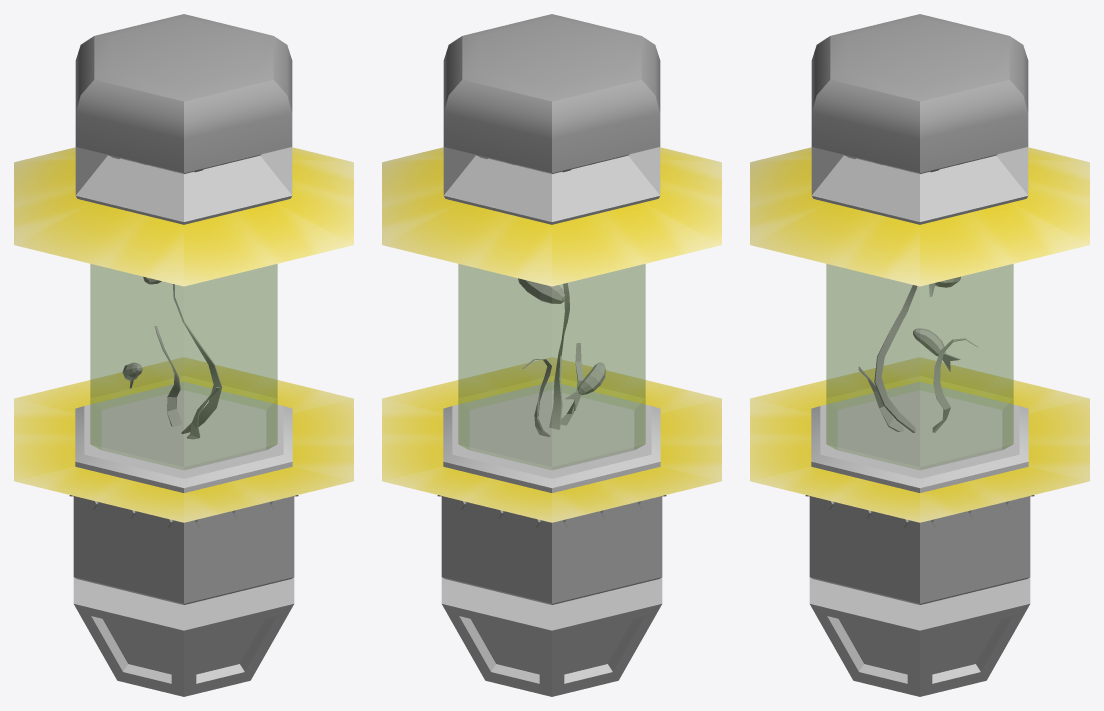
The model's file is Museum_Deco_FishTank_01_Art.fbx.
The picture shows the model from 3 angles, left to right: view 1: azimuth 30°, elevation 25°; view 2: azimuth 150°, elevation 25°; view 3: azimuth 270°, elevation 25°; orthographic projection.
Visible parts, largest first — view 1: Museum_Deco_FishTank_01; view 2: Museum_Deco_FishTank_01; view 3: Museum_Deco_FishTank_01.
Part boxes in pixels (<box>): Museum_Deco_FishTank_01: <box>14,14,353,696</box>; Museum_Deco_FishTank_01: <box>382,14,721,696</box>; Museum_Deco_FishTank_01: <box>750,14,1089,696</box>.
Size of the model in its own units: 307 by 529 by 266.
